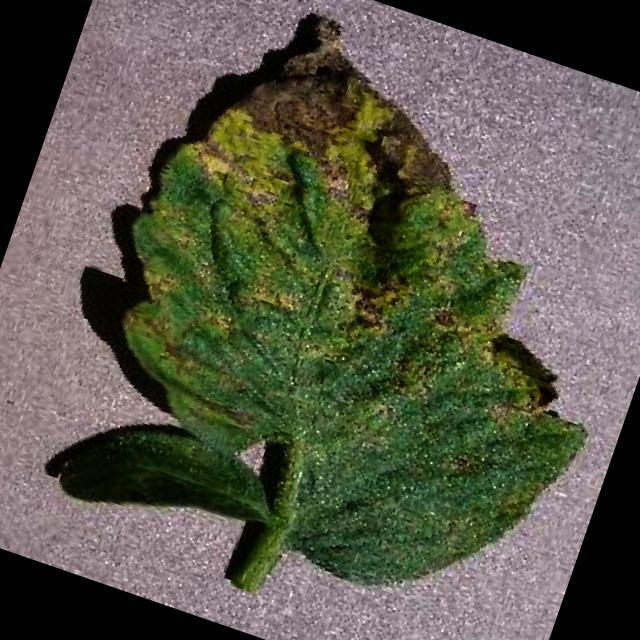Tomato Septoria spot leaf: (38, 0, 640, 640)
